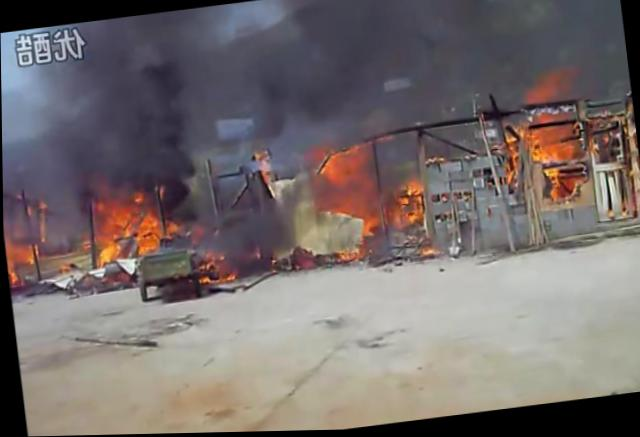fire: (323, 145, 374, 189), (103, 203, 139, 239), (531, 141, 582, 166), (132, 214, 162, 254), (95, 240, 118, 266), (531, 130, 565, 147), (14, 243, 38, 264), (363, 213, 381, 240), (336, 249, 361, 262), (405, 181, 424, 197), (544, 169, 560, 186)
